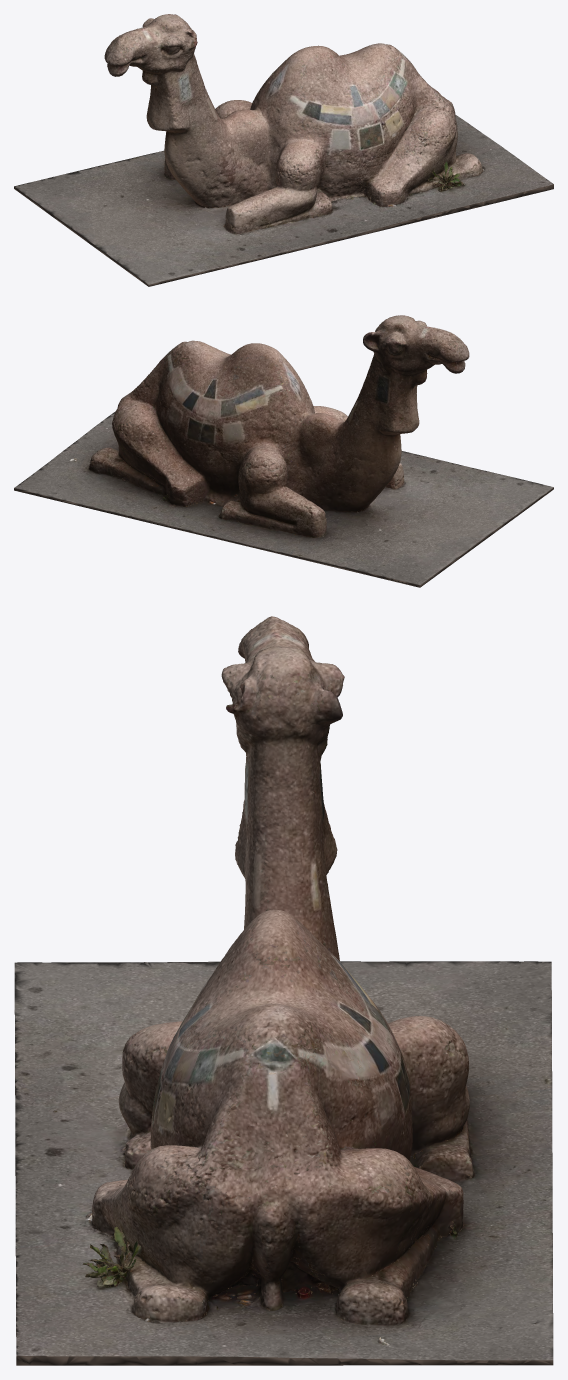
Rendered from preview.glb.
The picture shows the model from 3 angles, top to bottom: view 1: azimuth 30°, elevation 25°; view 2: azimuth 150°, elevation 25°; view 3: azimuth 270°, elevation 25°; orthographic projection. The views are drawn at different scales.
Visible parts, largest first — view 1: Object_2; view 2: Object_2; view 3: Object_2.
Part boxes in pixels (x1=…): Object_2: x1=14, y1=14, x2=553, y2=286; Object_2: x1=14, y1=315, x2=553, y2=587; Object_2: x1=14, y1=616, x2=553, y2=1365.
Bounding box in the file's own units: 2.99 × 1.41 × 1.72.
1 material, 1 textured.
